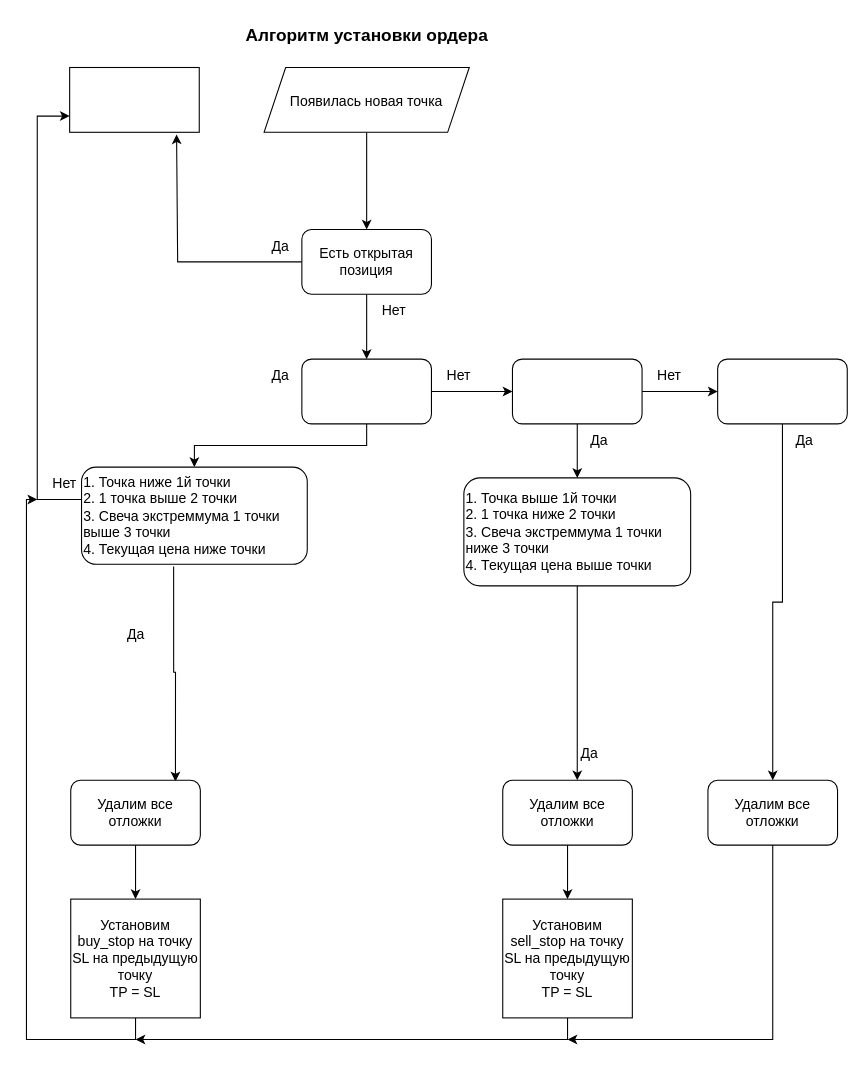
Image size: 866x1067. Some labels were removed from this diagram. The centre of each missing label's shape, as x and y in pixels:
"Выход" goes at point 134,99.
"Тренд вверх" goes at point 366,391.
"Тренд вниз" goes at point 576,391.
"Флэт" goes at point 782,391.
